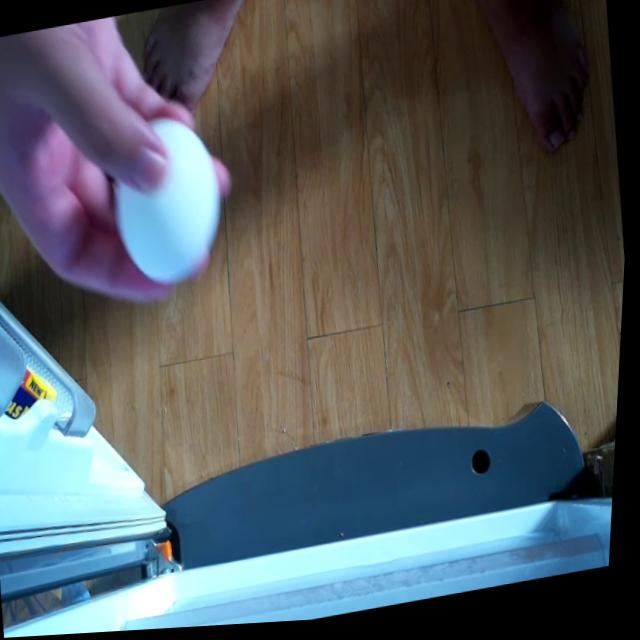egg: (97, 104, 236, 296)
